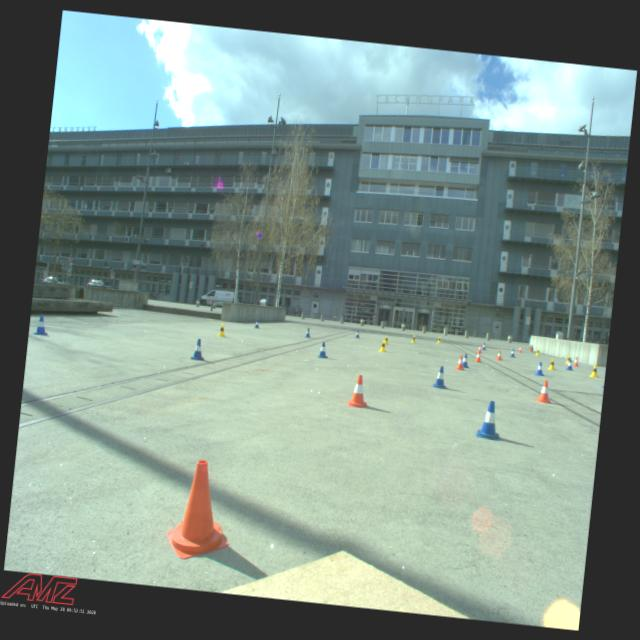blue_cone: (475, 398, 503, 441), (430, 364, 450, 390), (31, 314, 50, 336), (190, 336, 206, 361), (317, 341, 329, 358), (534, 360, 544, 376), (461, 353, 470, 368), (564, 358, 574, 371), (508, 348, 516, 358), (304, 327, 311, 338), (253, 320, 260, 328), (355, 330, 360, 338), (481, 342, 486, 350)
orange_cone: (164, 456, 238, 562), (347, 374, 371, 408), (534, 378, 552, 403), (453, 354, 466, 371), (473, 350, 482, 362), (496, 350, 504, 360), (572, 356, 579, 366), (476, 344, 482, 353), (517, 346, 522, 352)
yellow_cone: (588, 363, 600, 378), (378, 338, 387, 352), (546, 358, 556, 370), (218, 323, 226, 337), (384, 335, 389, 345), (565, 354, 570, 364), (410, 335, 416, 343), (534, 348, 540, 356), (436, 336, 441, 343)
